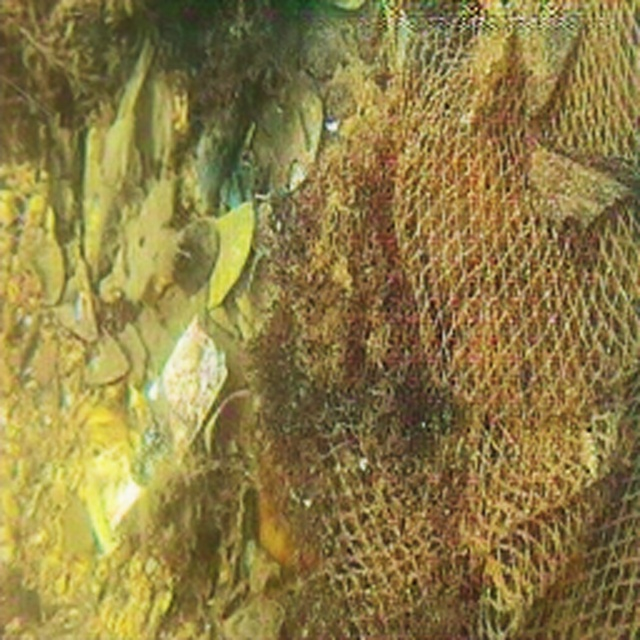mine: (302, 3, 639, 639)
